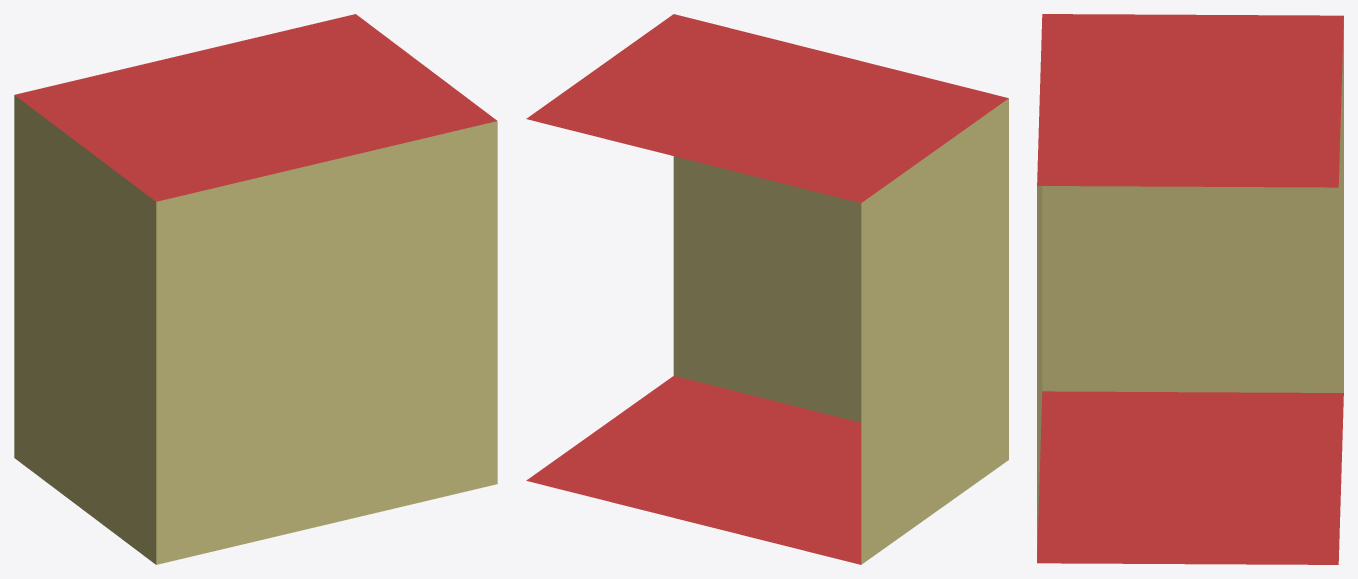
3 renders of one model, left to right at view 1: azimuth 30°, elevation 25°; view 2: azimuth 150°, elevation 25°; view 3: azimuth 270°, elevation 25°, orthographic. The views are drawn at different scales.
Bounding box in the file's own units: 5.16 × 3.86 × 5.23.
